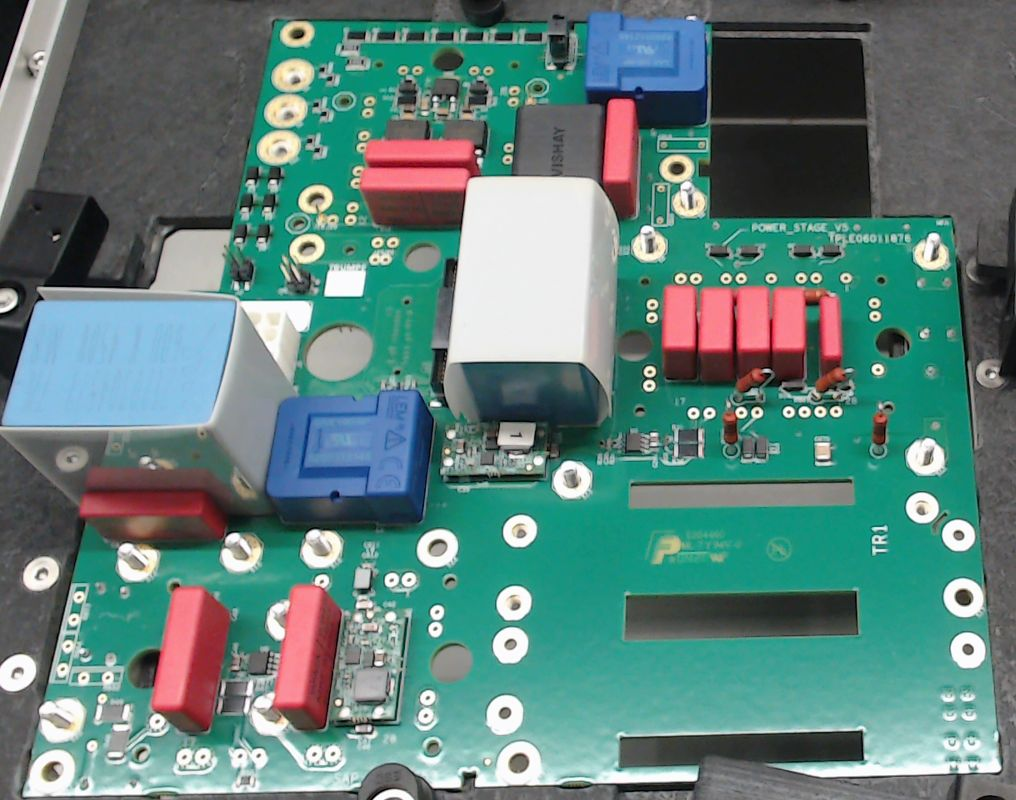comp1: (270, 388, 434, 528), (586, 10, 708, 126)
comp2: (154, 585, 229, 736), (277, 585, 340, 735), (78, 491, 229, 542), (354, 162, 472, 224), (598, 96, 640, 217), (658, 281, 700, 385), (734, 283, 773, 384), (359, 137, 480, 169), (700, 283, 735, 383), (772, 281, 806, 381), (820, 294, 844, 376)
comp3: (508, 101, 605, 178)
comp4: (1, 288, 299, 518), (443, 178, 620, 433)
